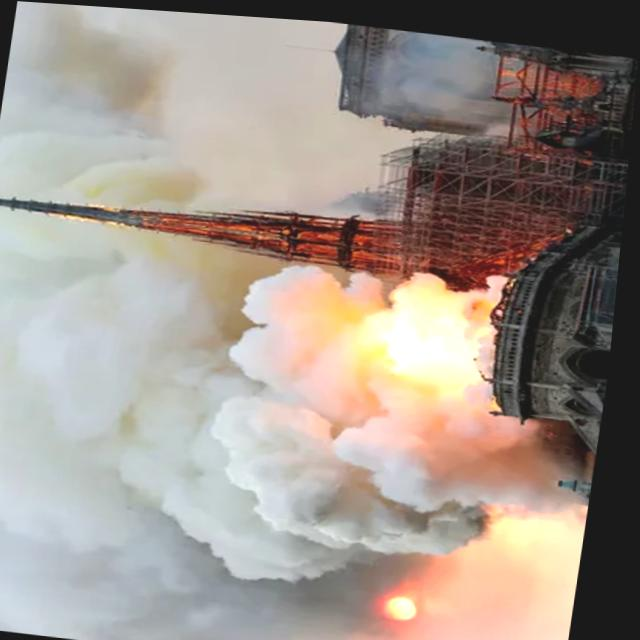Smoke: (115, 228, 611, 608)
